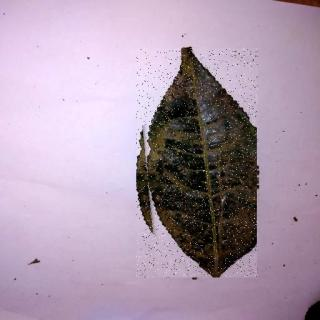Anthracnose: (138, 49, 260, 279)
